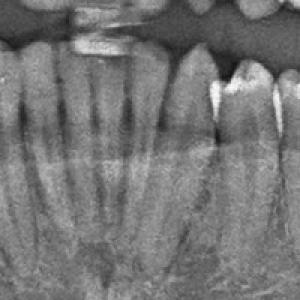tooth: (212, 60, 282, 254), (163, 44, 218, 237), (21, 40, 71, 207), (91, 57, 139, 198), (61, 54, 105, 201), (131, 41, 169, 198)
